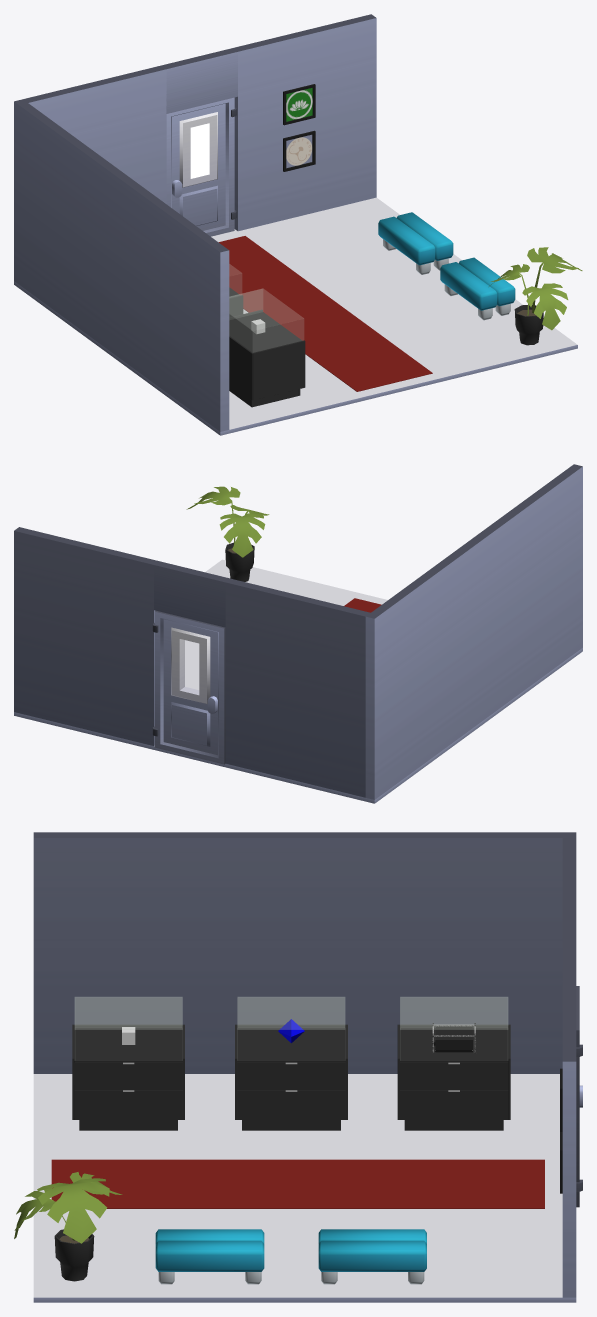
File: Gallery.glb
3 renders of one model, top to bottom at view 1: azimuth 30°, elevation 25°; view 2: azimuth 150°, elevation 25°; view 3: azimuth 270°, elevation 25°, orthographic. The views are drawn at different scales.
Visible parts, largest first — view 1: Wall, Floor, WoolCarpet, Door, CabinetsA, GlassA, Houseplant, BenchA, BenchB, Glass, Mon, wetnose; view 2: Wall, Door, Floor, Houseplant; view 3: Wall, Floor, WoolCarpet, CabinetsA, CabinetsB, CabinetsC, BenchA, BenchB, Houseplant, GlassB, GlassC, GlassA (+2 smaller).
Part boxes in pixels (<box>): Wall: <box>14,14,376,431</box>; Floor: <box>14,197,577,435</box>; WoolCarpet: <box>219,236,432,391</box>; Door: <box>166,97,236,236</box>; CabinetsA: <box>229,309,305,407</box>; GlassA: <box>229,288,303,352</box>; Houseplant: <box>489,247,582,345</box>; BenchA: <box>440,257,515,320</box>; BenchB: <box>378,212,453,274</box>; Glass: <box>190,123,209,178</box>; Mon: <box>286,88,312,121</box>; wetnose: <box>286,137,312,165</box>; Wall: <box>14,464,582,799</box>; Door: <box>152,610,225,764</box>; Floor: <box>14,559,582,803</box>; Houseplant: <box>186,486,269,581</box>; Wall: <box>33,832,576,1297</box>; Floor: <box>33,1074,576,1302</box>; WoolCarpet: <box>51,1159,544,1208</box>; CabinetsA: <box>72,1024,184,1130</box>; CabinetsB: <box>235,1024,347,1130</box>; CabinetsC: <box>397,1024,510,1130</box>; BenchA: <box>155,1229,264,1284</box>; BenchB: <box>318,1229,426,1284</box>; Houseplant: <box>14,1172,122,1281</box>; GlassB: <box>237,997,344,1059</box>; GlassC: <box>400,997,507,1059</box>; GlassA: <box>75,997,182,1029</box>.
Bounding box in the file's own units: 10.51 × 4.9 × 10.49.
Materials: 31 (10 with a texture image).
